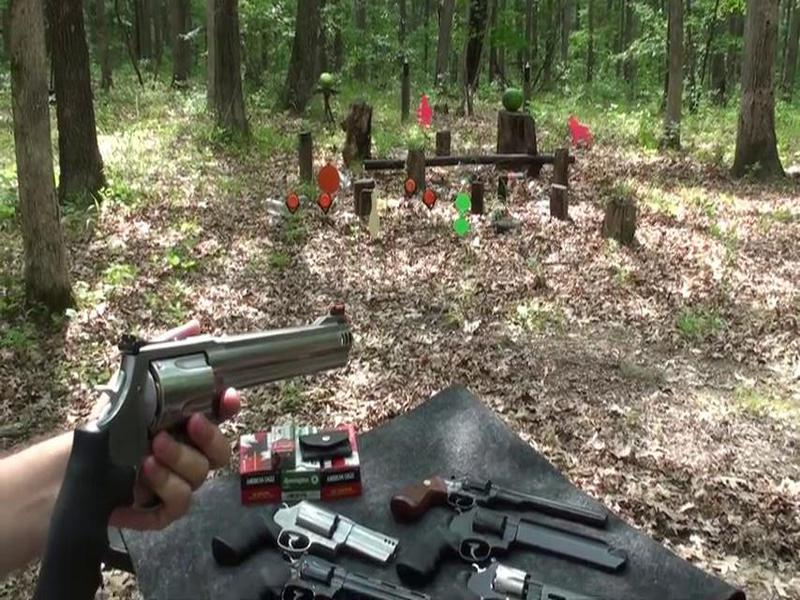Revolver: (53, 327, 369, 600)
